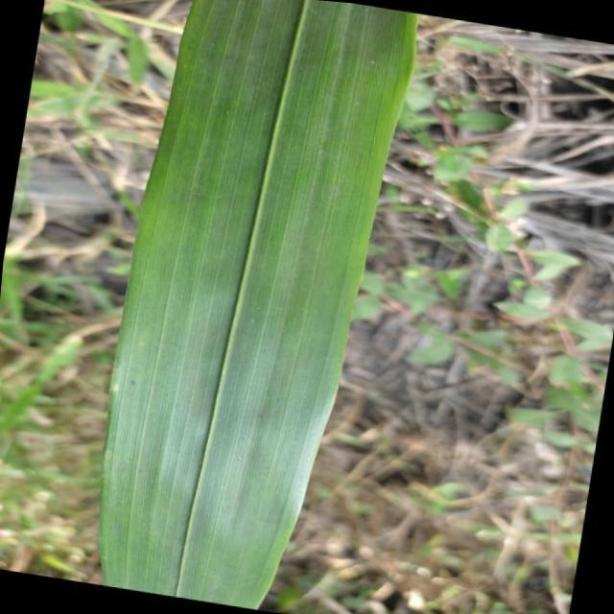Healthy: (99, 2, 421, 610)
